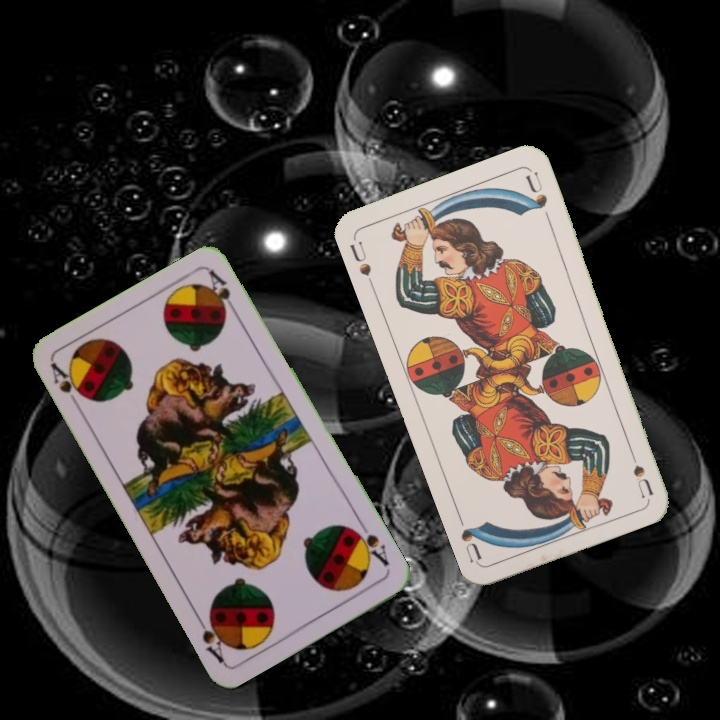SA: (46, 359, 92, 413), (347, 518, 392, 569)
SU: (624, 441, 656, 499), (345, 237, 374, 279)
